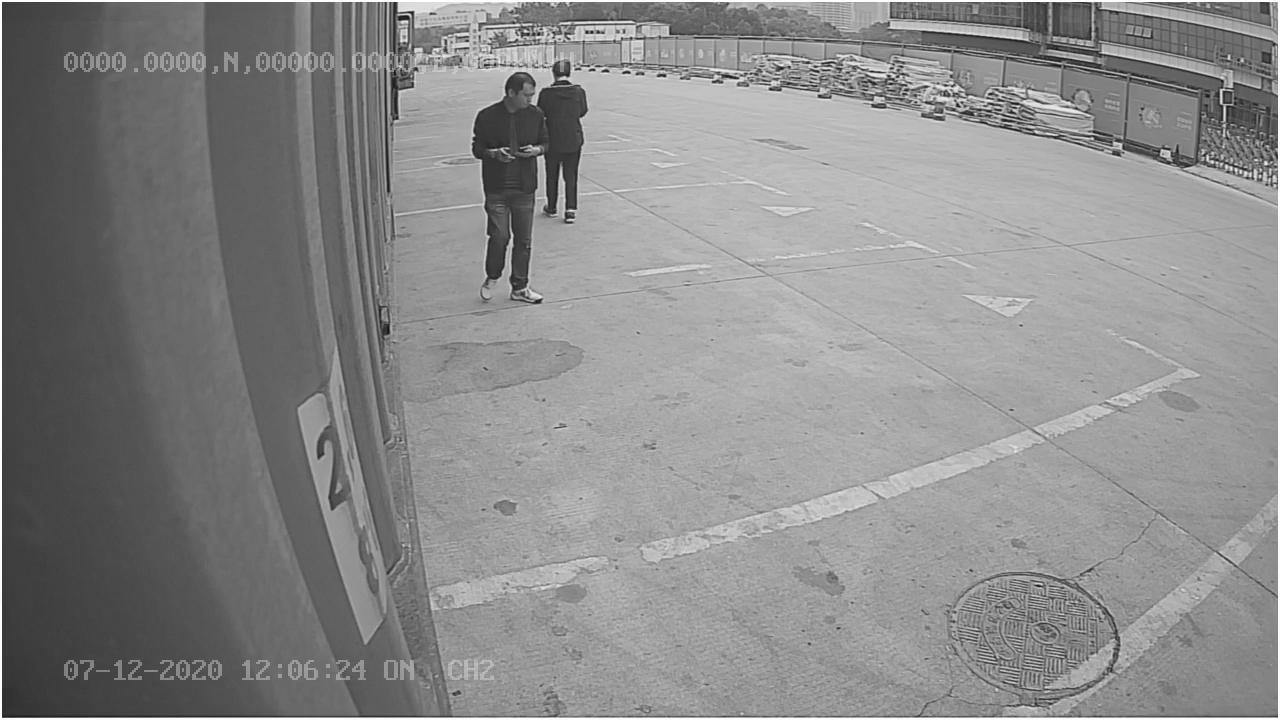person: (468, 62, 549, 306)
